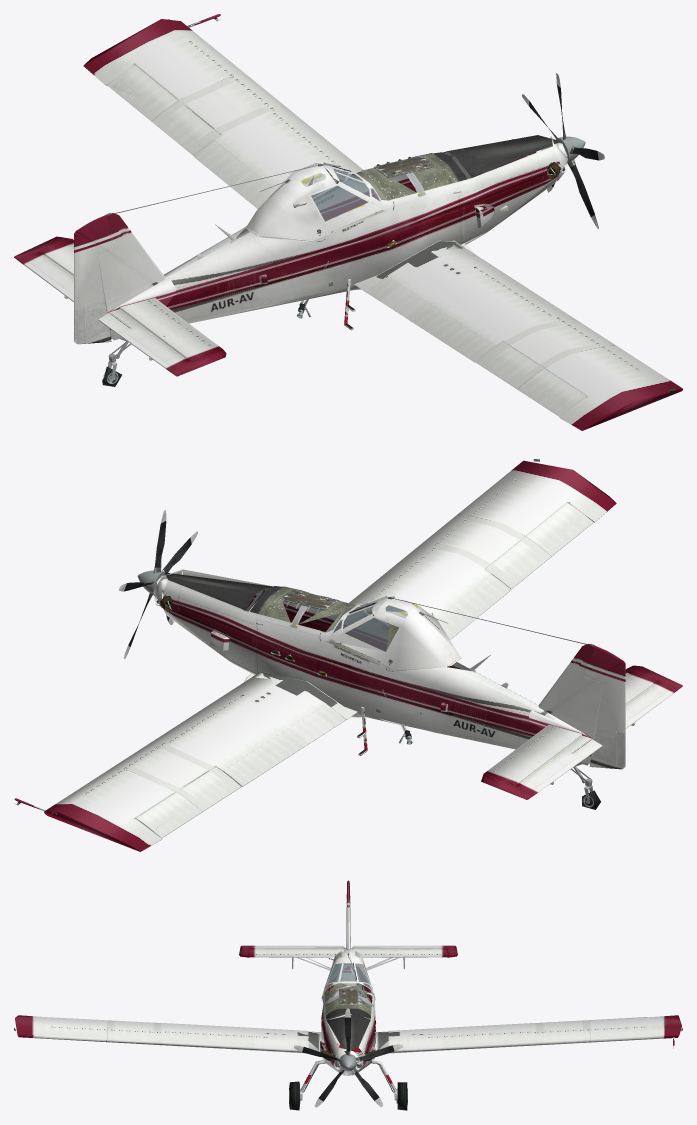
3 renders of one model, top to bottom at view 1: azimuth 30°, elevation 25°; view 2: azimuth 150°, elevation 25°; view 3: azimuth 270°, elevation 25°, orthographic. The views are drawn at different scales.
Visible parts, largest first — view 1: mat03, mat02, mat05, mat22, mat02-helice; view 2: mat03, mat02, mat05, mat22, mat02-helice; view 3: mat03, mat02, mat02-helice, mat05, mat22.
Part boxes in pixels (x1,y1,x2,y2): mat03: (83, 19, 682, 430); mat02: (14, 14, 567, 386); mat05: (74, 153, 555, 344); mat22: (289, 167, 380, 221); mat02-helice: (522, 73, 604, 228); mat03: (44, 460, 616, 851); mat02: (14, 569, 682, 811); mat05: (165, 595, 625, 769); mat22: (333, 600, 420, 651); mat02-helice: (119, 510, 197, 658); mat03: (15, 1015, 681, 1053); mat02: (239, 945, 674, 1110); mat02-helice: (294, 1008, 402, 1107); mat05: (300, 880, 396, 1100); mat22: (325, 951, 371, 990).
Size of the model in its own units: 10.5 by 4.01 by 18.04.
Materials: 16 (9 with a texture image).
